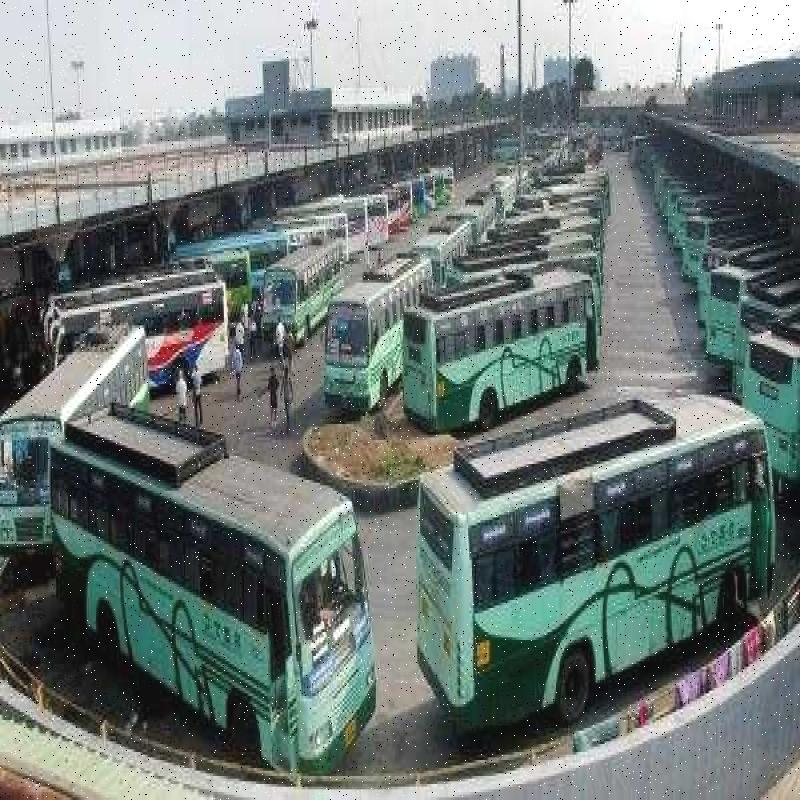bus: (418, 342, 763, 742), (38, 466, 370, 767), (0, 301, 143, 559), (414, 256, 608, 419), (332, 219, 436, 419)
